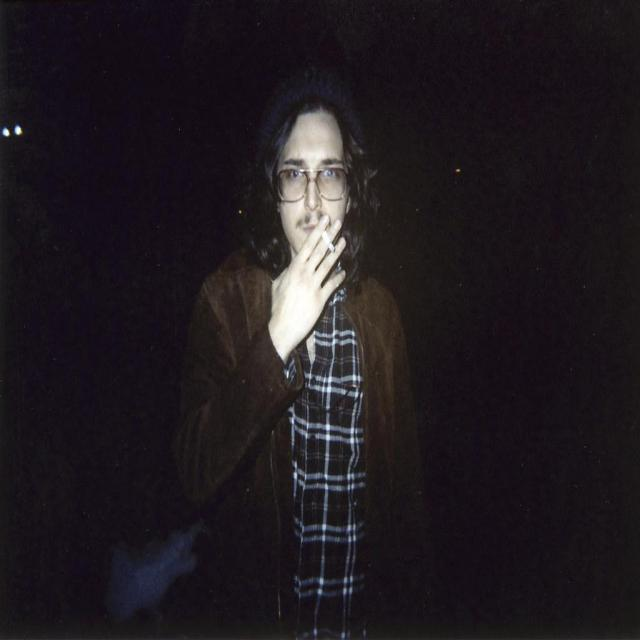Сигарета: (320, 229, 336, 255)
Тело: (266, 106, 368, 640)
